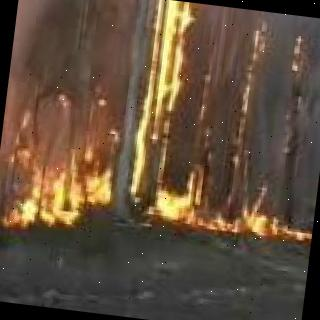fire: (9, 142, 319, 256), (158, 1, 200, 152), (232, 26, 268, 130), (284, 32, 312, 74)
